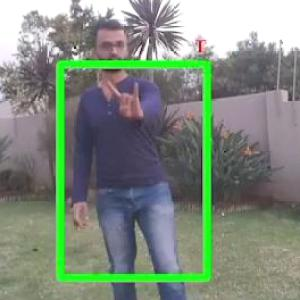takeoff-hand: (105, 74, 156, 124)
